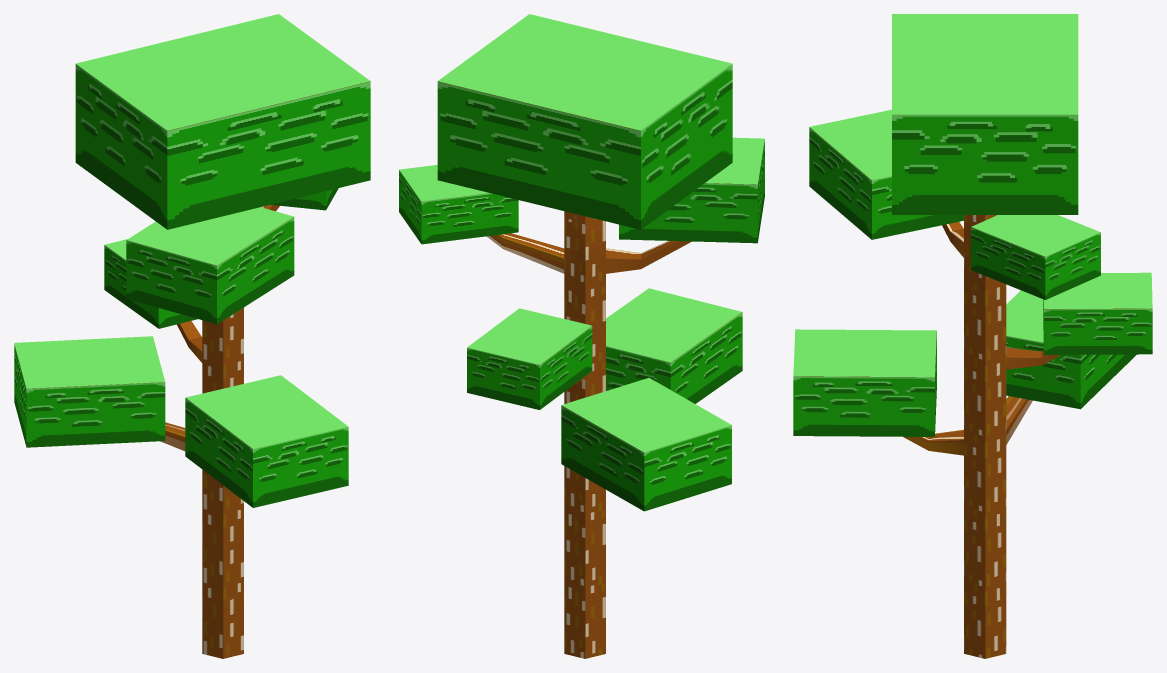
Rendered from tree1-with-branches-v1.obj.
3 views of the same model, side by side, from view 1: azimuth 30°, elevation 25°; view 2: azimuth 150°, elevation 25°; view 3: azimuth 270°, elevation 25° (orthographic).
Parts seen in each view (by area): view 1: polySurface1; view 2: polySurface1; view 3: polySurface1.
Part boxes in pixels (left/top/right/bottom): polySurface1: left=14, top=14, right=370, bottom=658; polySurface1: left=399, top=14, right=764, bottom=658; polySurface1: left=793, top=14, right=1152, bottom=658.
Size of the model in its own units: 1575 by 2644 by 1473.
